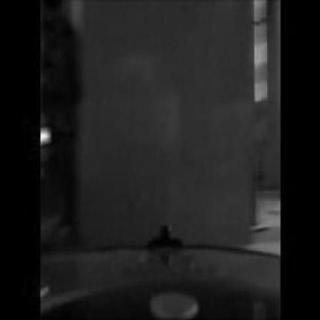other: (39, 277, 50, 297)
